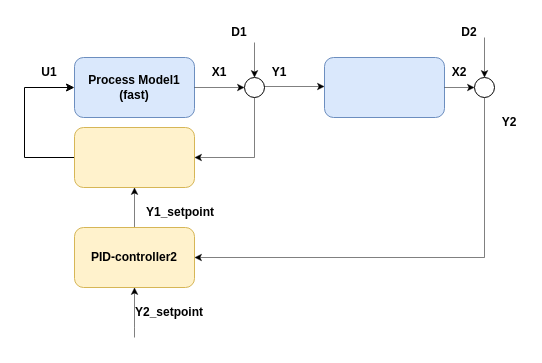
The diagram is 542 pixels wide and 363 high, and some of its shapes have lost their labels. The shapes that lost their labels are listed below. From the top down, each one's centre as x and y in pixels, then its label:
At pixel 384 87: "Process Model2 (slow)".
At pixel 134 157: "PID-controller1".
